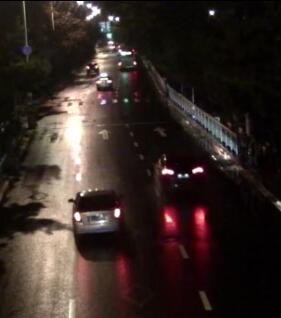bus: (117, 42, 137, 72)
car: (67, 187, 124, 238), (156, 146, 212, 195), (94, 70, 113, 91), (86, 59, 100, 76)
